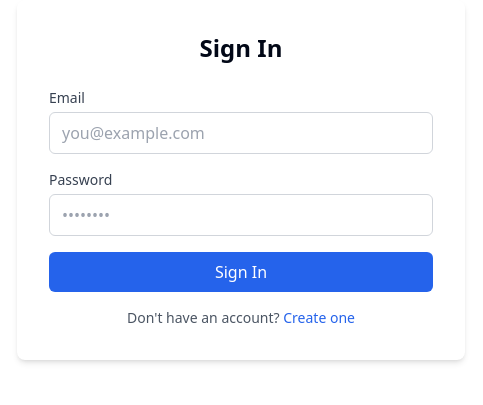
it: LoginForm › validates password is required
Type "test@example.com" into the field labelled "Email" at (241, 133), box [49,112,433,154]
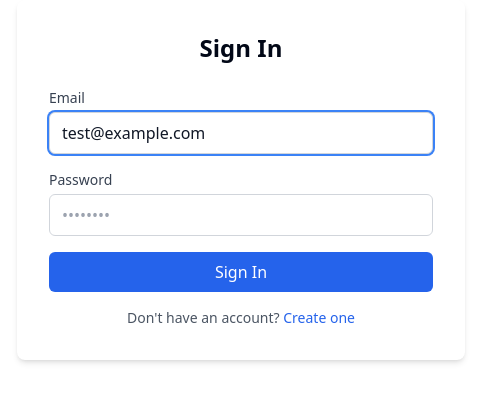
Click the button "Sign In" at (241, 272), box [49,252,433,292]
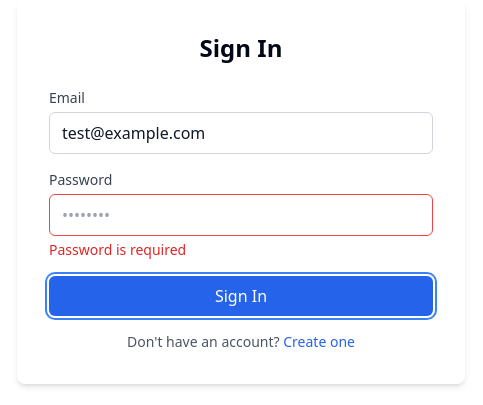
Now the text "Password is required" is shown, box [49,240,186,259]
